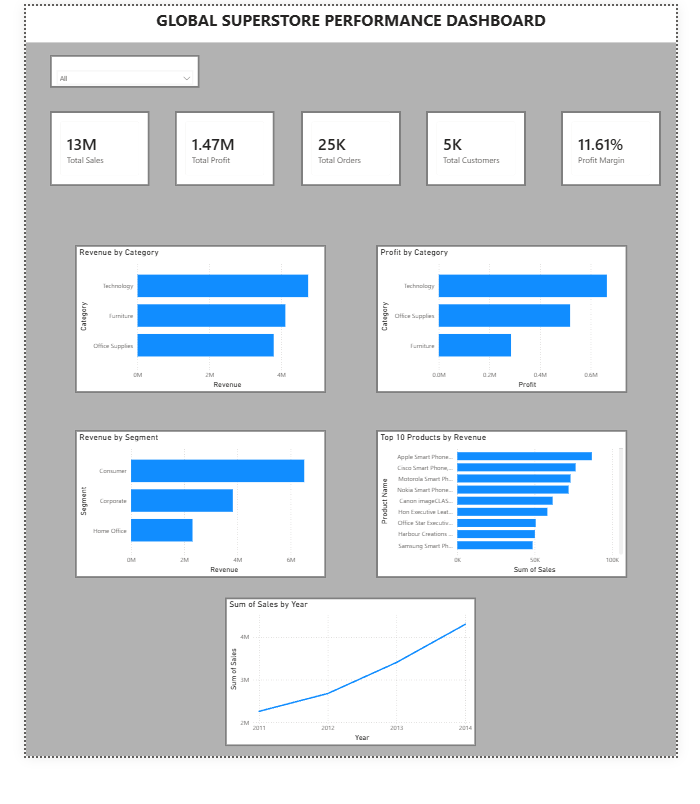

The page's visual inventory and layout, read from the dashboard file:
{"tool":"powerbi","page":{"name":"Page 1","canvas":[1300,1500],"ordinal":0},"visuals":[{"type":"slicer","fields":{"Values":["Global_Superstore.Country"]},"box":[46.7,96.7,300,66.7],"z":0},{"type":"textbox","box":[0,0,1300,72.5],"z":1000},{"type":"cardVisual","fields":{"Data":["Sum(Global_Superstore.Sales)"]},"box":[47.1,210,200,150],"z":2000},{"type":"cardVisual","fields":{"Data":["Sum(Global_Superstore.Profit)"]},"box":[297.5,210,200,150],"z":3000},{"type":"cardVisual","fields":{"Data":["Global_Superstore.Total Orders"]},"box":[550,210,200,150],"z":4000},{"type":"cardVisual","fields":{"Data":["Global_Superstore.Total Customers"]},"box":[800,210,200,150],"z":5000},{"type":"cardVisual","fields":{"Data":["Global_Superstore.Total Profit %"]},"box":[1070,210,200,150],"z":5001},{"type":"clusteredBarChart","fields":{"Category":["Global_Superstore.Category"],"Y":["Sum(Global_Superstore.Sales)"]},"box":[96.7,476.7,503.3,296.7],"z":5002},{"type":"clusteredBarChart","fields":{"Category":["Global_Superstore.Category"],"Y":["Sum(Global_Superstore.Profit)"]},"box":[700,476.7,503.3,296.7],"z":5003},{"type":"clusteredBarChart","fields":{"Category":["Global_Superstore.Segment"],"Y":["Sum(Global_Superstore.Sales)"]},"box":[96.7,846.7,503.3,296.7],"z":5004},{"type":"clusteredBarChart","title":"Top 10 Products by Revenue","fields":{"Y":["Sum(Global_Superstore.Sales)"],"Category":["Global_Superstore.Product Name"]},"box":[700,846.7,503.3,296.7],"z":5005},{"type":"lineChart","fields":{"Category":["Global_Superstore.Year"],"Y":["Sum(Global_Superstore.Sales)"]},"box":[398.3,1181.7,503.3,298.3],"z":5006}]}

Visuals, with their boxes in screenshot pixels (x1, y1, x2, y2), scaled from the page's 1300x1500 canvas onto the 700x804 screenshot:
slicer - Global_Superstore.Country: [25,52,187,88]
textbox: [0,0,699,39]
cardVisual - Sum(Global_Superstore.Sales): [25,113,133,193]
cardVisual - Sum(Global_Superstore.Profit): [160,113,268,193]
cardVisual - Global_Superstore.Total Orders: [296,113,404,193]
cardVisual - Global_Superstore.Total Customers: [431,113,538,193]
cardVisual - Global_Superstore.Total Profit %: [576,113,684,193]
clusteredBarChart - Global_Superstore.Category x Sum(Global_Superstore.Sales): [52,256,323,415]
clusteredBarChart - Global_Superstore.Category x Sum(Global_Superstore.Profit): [377,256,648,415]
clusteredBarChart - Global_Superstore.Segment x Sum(Global_Superstore.Sales): [52,454,323,613]
"Top 10 Products by Revenue" clusteredBarChart: [377,454,648,613]
lineChart - Global_Superstore.Year x Sum(Global_Superstore.Sales): [214,633,485,793]
